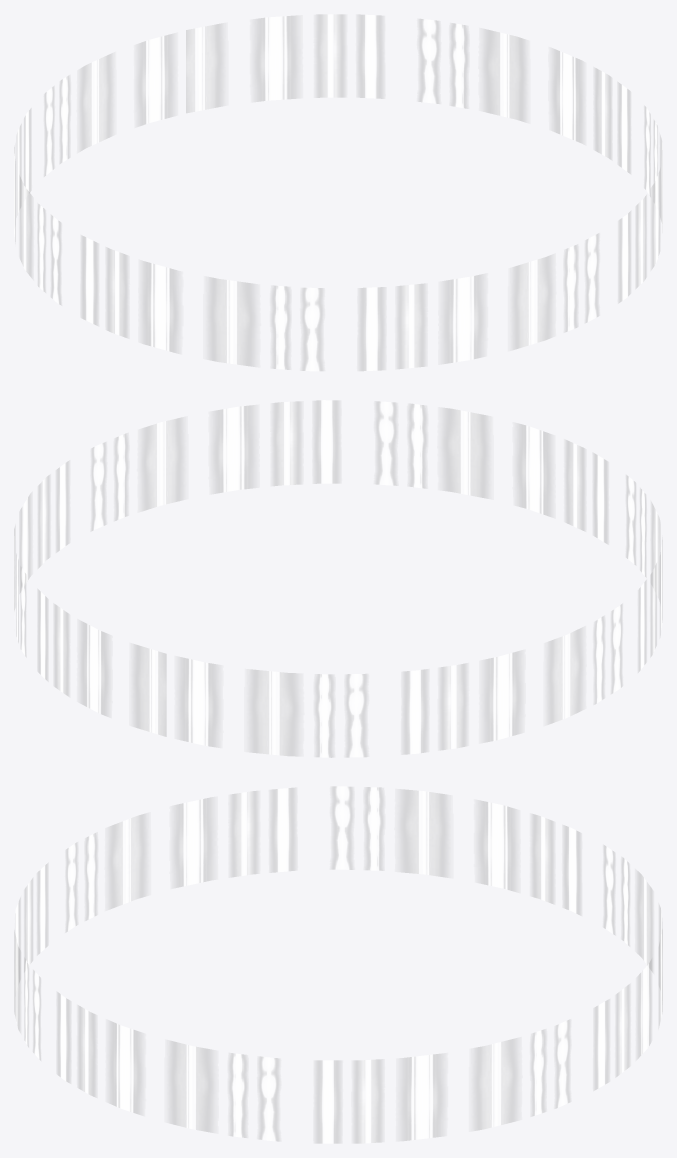
File: uxr_cylinder_light.glb
3 renders of one model, top to bottom at view 1: azimuth 30°, elevation 25°; view 2: azimuth 150°, elevation 25°; view 3: azimuth 270°, elevation 25°, orthographic.
Parts seen in each view (by area): view 1: cylinder1; view 2: cylinder1; view 3: cylinder1.
Part boxes in pixels (box(x1,y1,x2,y2)): cylinder1: box(14, 14, 662, 371); cylinder1: box(14, 400, 662, 757); cylinder1: box(14, 786, 662, 1143).
Size of the model in its own units: 28.21 by 4 by 28.23.
Materials: 1 (1 with a texture image).
